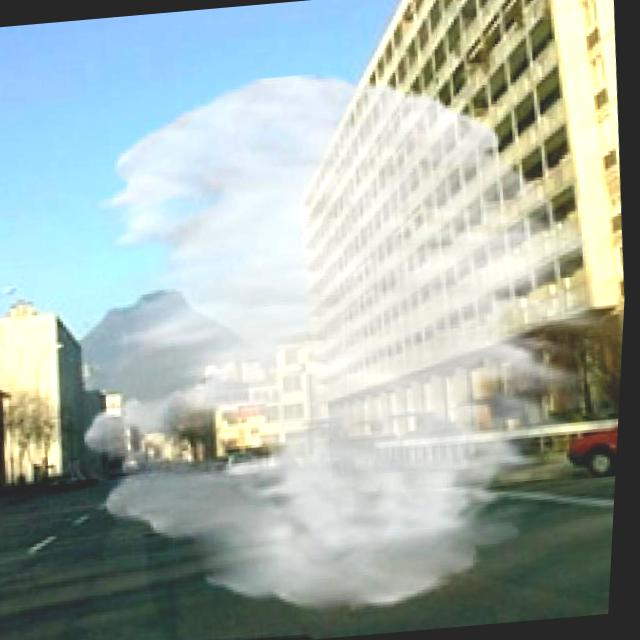Smoke: (73, 50, 617, 633)
